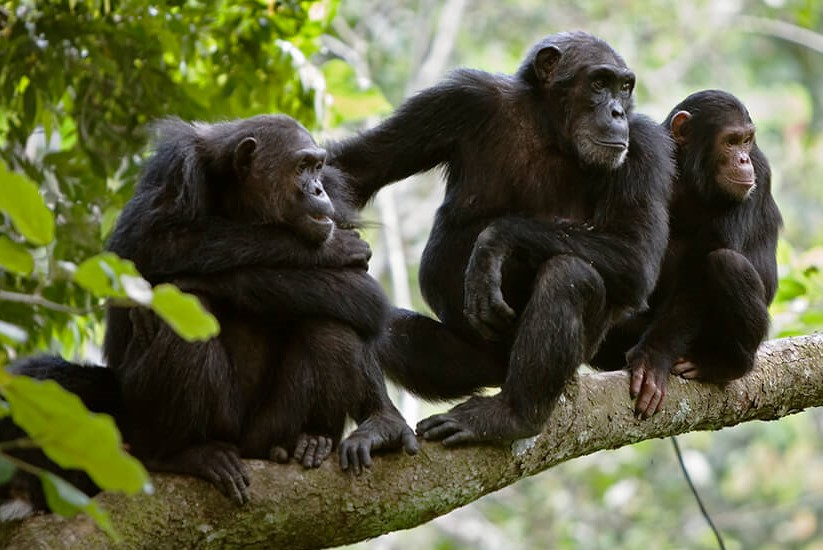Chimpanzee: (400, 30, 663, 435), (118, 111, 378, 464), (665, 85, 782, 385)
